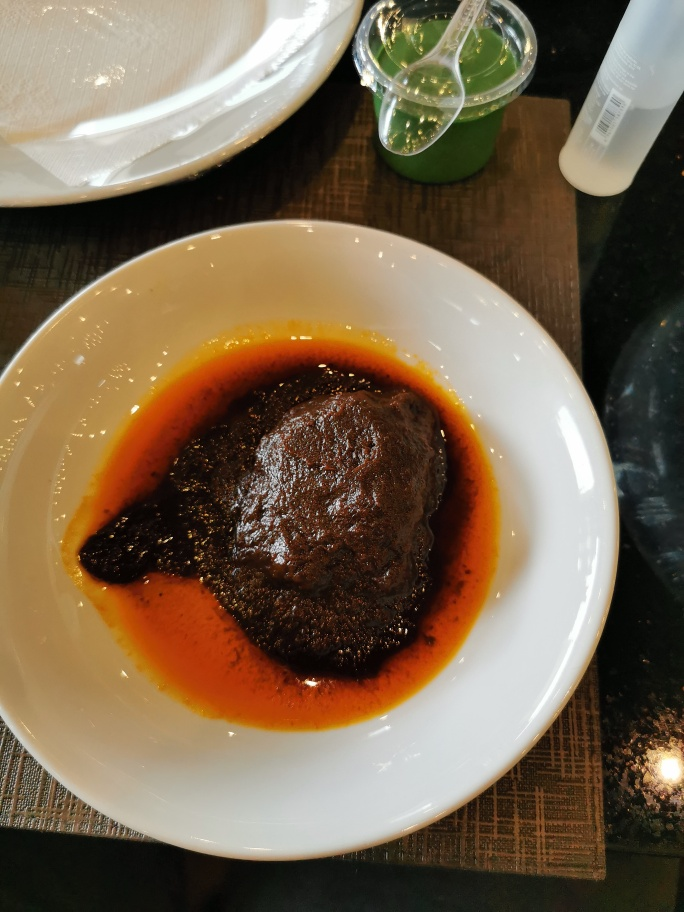rendang: (132, 372, 465, 691)
